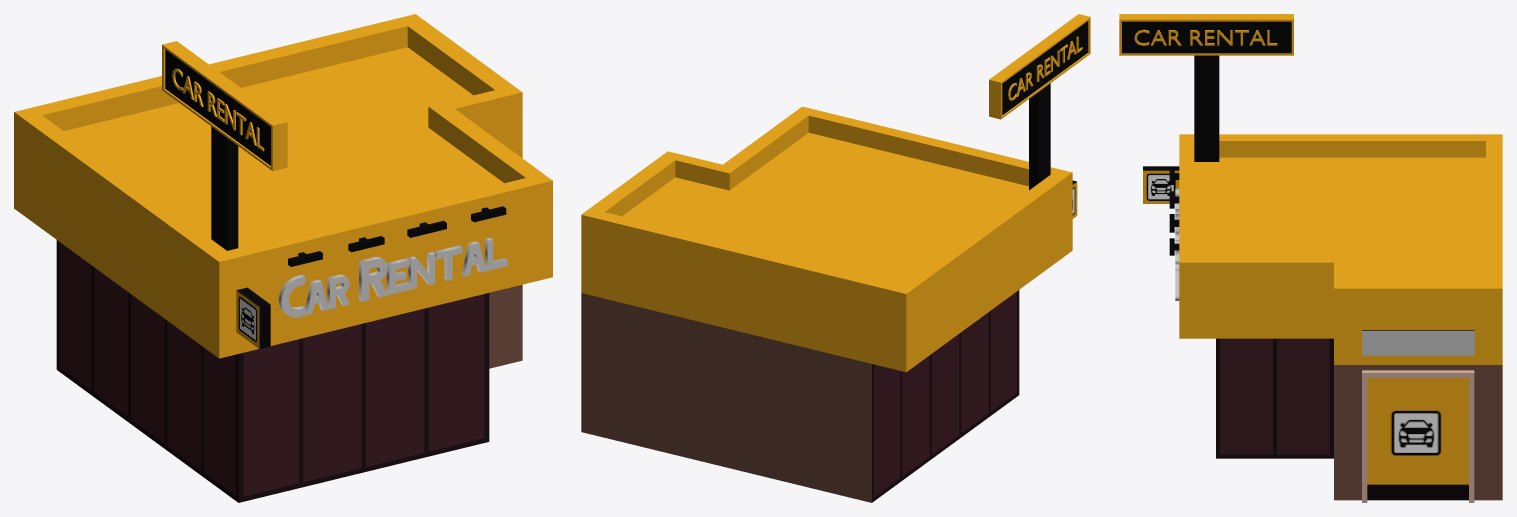
Rendered from FBX_Car_Rental.fbx.
3 renders of one model, left to right at view 1: azimuth 30°, elevation 25°; view 2: azimuth 150°, elevation 25°; view 3: azimuth 270°, elevation 25°, orthographic. The views are drawn at different scales.
Parts seen in each view (by area): view 1: Car Rental, Text_1, Text_2; view 2: Car Rental, Text_2; view 3: Car Rental, Text_3, Text_1.
Boxes of the visible parts, x1=… form: Car Rental: x1=14, y1=14, x2=552, y2=502; Text_1: x1=278, y1=238, x2=507, y2=317; Text_2: x1=172, y1=68, x2=264, y2=151; Car Rental: x1=581, y1=14, x2=1090, y2=502; Text_2: x1=1008, y1=36, x2=1082, y2=100; Car Rental: x1=1119, y1=14, x2=1502, y2=502; Text_3: x1=1134, y1=29, x2=1277, y2=45; Text_1: x1=1175, y1=188, x2=1179, y2=300.
Bounding box in the file's own units: 13.24 × 13.26 × 13.63.
